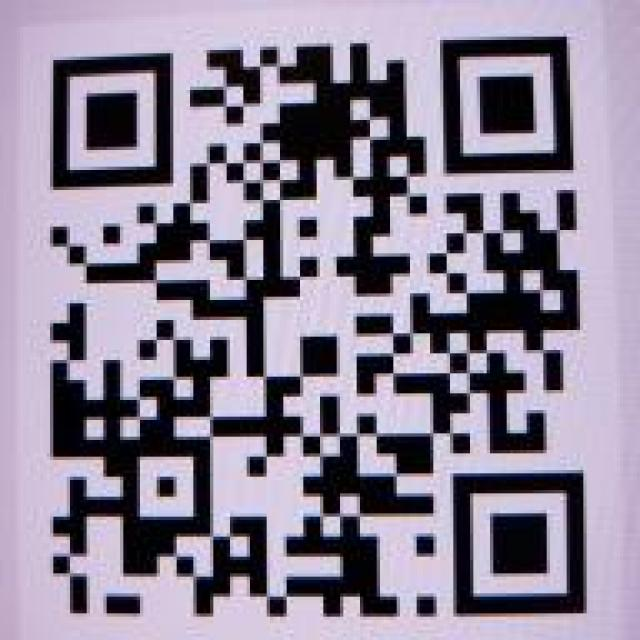QR_CODE: (11, 13, 606, 635)
